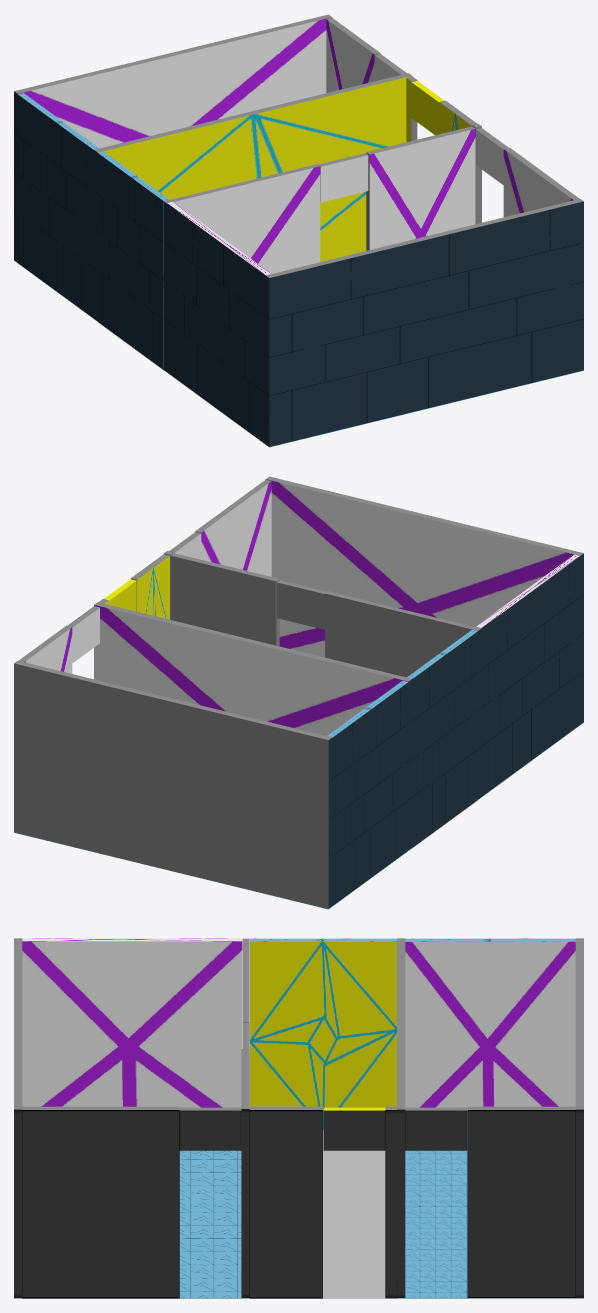
Rendered from cuarto.obj.
3 renders of one model, top to bottom at view 1: azimuth 30°, elevation 25°; view 2: azimuth 150°, elevation 25°; view 3: azimuth 270°, elevation 25°, orthographic. The views are drawn at different scales.
Visible parts, largest first — view 1: Box002, Box008, Box007, Box003, Box009, Box010, Box018, Box017, Box015, Box011, Box016, Box013 (+2 smaller); view 2: Box007, Box002, Box008, Box003, Box009, Box010, Box017, Box018, Box015, Box016, Box012, Box011 (+1 smaller); view 3: Box003, Box015, Box009, Box010, Box011, Box012, Box006, Box005, Box001, Box002, Box007, Box008 (+5 smaller).
Boxes of the visible parts, x1=… form: Box002: x1=265, y1=54, x2=583, y2=446; Box008: x1=94, y1=73, x2=411, y2=320; Box007: x1=14, y1=14, x2=332, y2=262; Box003: x1=167, y1=76, x2=417, y2=443; Box009: x1=17, y1=93, x2=99, y2=318; Box010: x1=97, y1=151, x2=169, y2=369; Box018: x1=366, y1=126, x2=475, y2=250; Box017: x1=164, y1=164, x2=320, y2=371; Box015: x1=503, y1=147, x2=579, y2=217; Box011: x1=326, y1=18, x2=380, y2=92; Box016: x1=318, y1=153, x2=368, y2=202; Box013: x1=411, y1=81, x2=444, y2=135; Box007: x1=14, y1=661, x2=332, y2=908; Box002: x1=67, y1=476, x2=583, y2=724; Box008: x1=94, y1=602, x2=412, y2=849; Box003: x1=98, y1=554, x2=580, y2=796; Box009: x1=327, y1=680, x2=408, y2=905; Box010: x1=407, y1=629, x2=478, y2=847; Box017: x1=325, y1=591, x2=481, y2=798; Box018: x1=170, y1=553, x2=279, y2=646; Box015: x1=195, y1=479, x2=271, y2=576; Box016: x1=277, y1=580, x2=326, y2=629; Box012: x1=130, y1=554, x2=169, y2=619; Box011: x1=18, y1=625, x2=72, y2=673; Box003: x1=22, y1=938, x2=396, y2=1298; Box015: x1=22, y1=1106, x2=179, y2=1298; Box009: x1=405, y1=938, x2=575, y2=1129; Box010: x1=250, y1=938, x2=396, y2=1130; Box011: x1=467, y1=1106, x2=575, y2=1297; Box012: x1=249, y1=1106, x2=322, y2=1298; Box006: x1=397, y1=1130, x2=583, y2=1298; Box005: x1=323, y1=1130, x2=396, y2=1298; Box001: x1=14, y1=1150, x2=249, y2=1298; Box002: x1=14, y1=938, x2=467, y2=1297; Box007: x1=575, y1=938, x2=583, y2=1297; Box008: x1=397, y1=938, x2=405, y2=1297.
Bounding box in the file's own units: 207 × 107 × 291.
